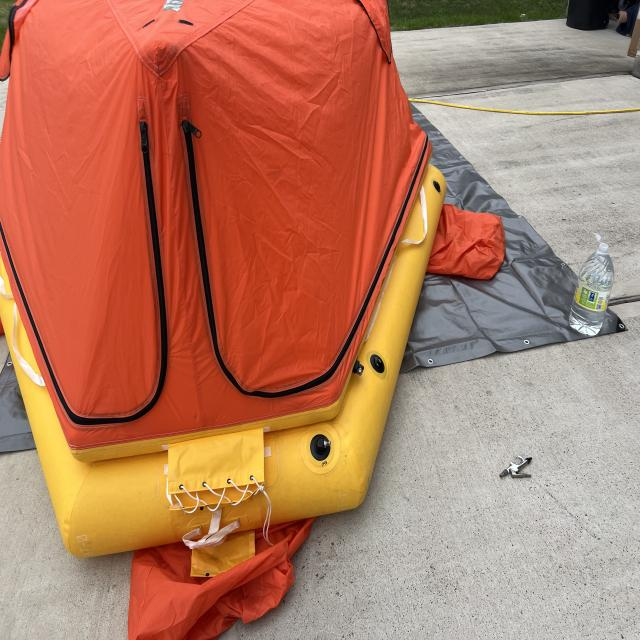Multi-person_life_raft: (0, 1, 505, 639)
